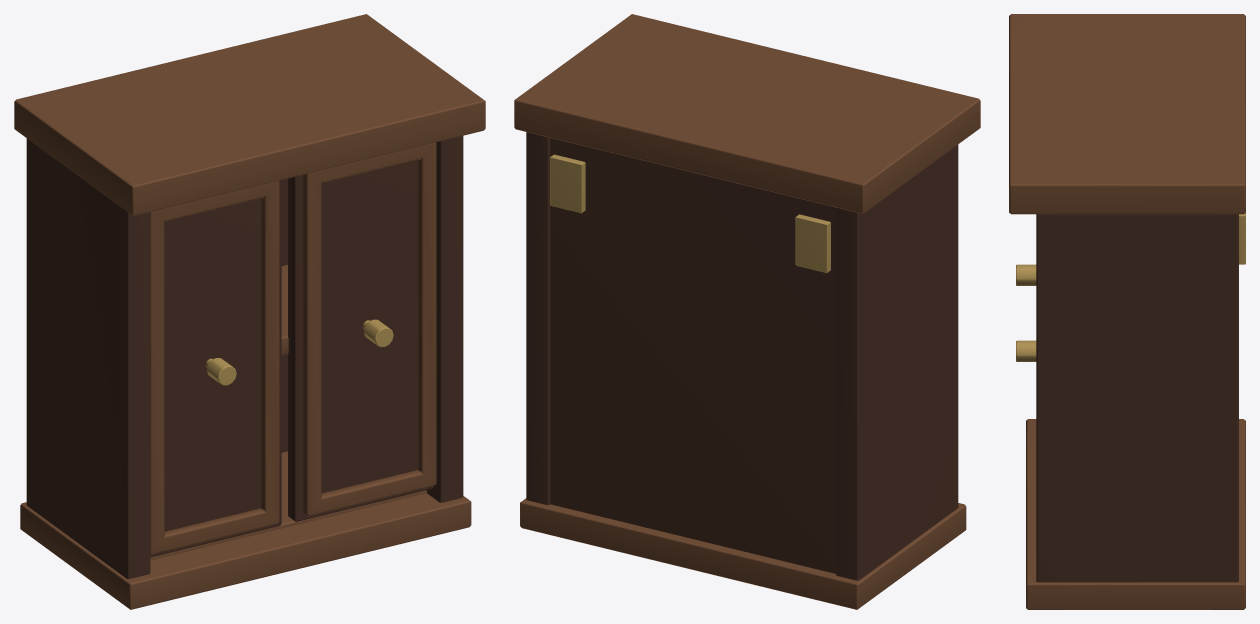
The model's file is rpg-mansion-kitchen-wall-cupboard-01.glb.
3 views of the same model, side by side, from view 1: azimuth 30°, elevation 25°; view 2: azimuth 150°, elevation 25°; view 3: azimuth 270°, elevation 25° (orthographic).
Visible parts, largest first — view 1: rpg-mansion-kitchen-wall-cupboard-01; view 2: rpg-mansion-kitchen-wall-cupboard-01; view 3: rpg-mansion-kitchen-wall-cupboard-01.
Part boxes in pixels (x1,y1,x2,y2): rpg-mansion-kitchen-wall-cupboard-01: (14,14,485,609); rpg-mansion-kitchen-wall-cupboard-01: (514,14,980,609); rpg-mansion-kitchen-wall-cupboard-01: (1009,14,1245,609).
Bounding box in the file's own units: 0.6 × 0.7 × 0.35.
